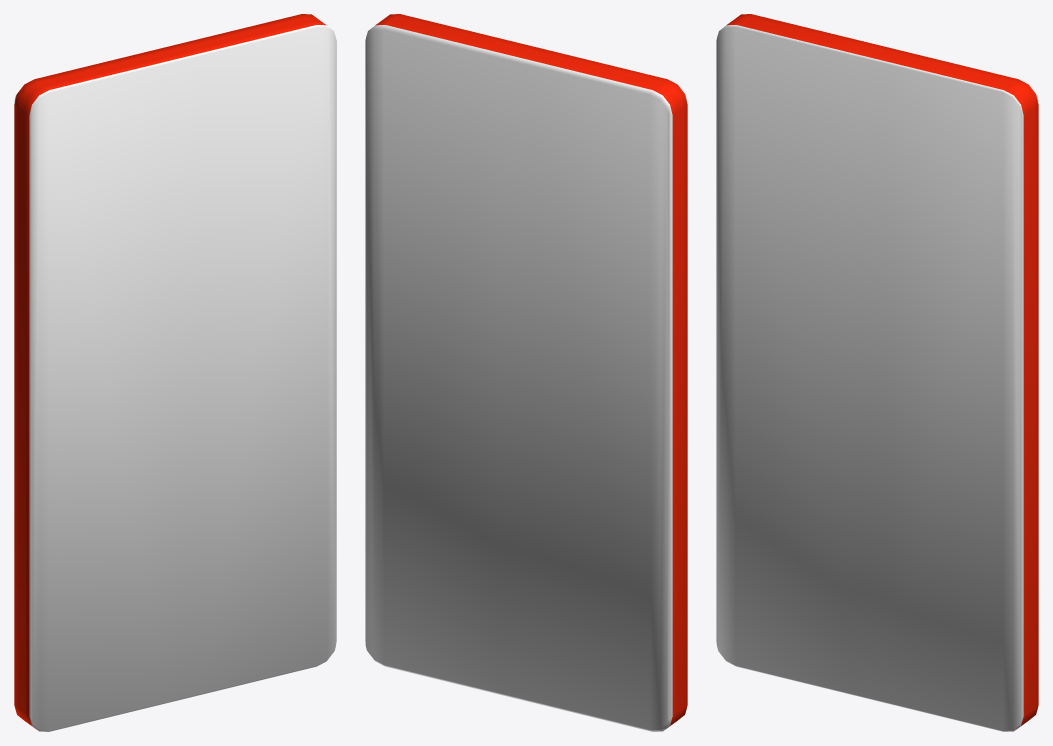
Rendered from Smartphone.fbx.
3 views of the same model, side by side, from view 1: azimuth 30°, elevation 25°; view 2: azimuth 150°, elevation 25°; view 3: azimuth 330°, elevation 25° (orthographic).
Parts seen in each view (by area): view 1: Phone; view 2: Screen, Phone; view 3: Phone.
Boxes of the visible parts, <box> form: Phone: <box>14,14,336,731</box>; Screen: <box>365,27,670,730</box>; Phone: <box>365,14,687,731</box>; Phone: <box>716,14,1038,731</box>.
Bounding box in the file's own units: 7.5 × 14.97 × 0.7495.
